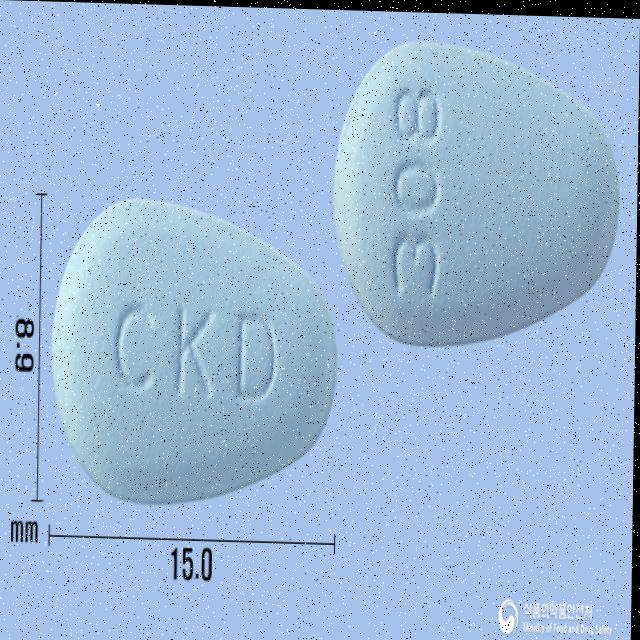Tenofobell Tab: (49, 190, 341, 510), (334, 29, 621, 350)
